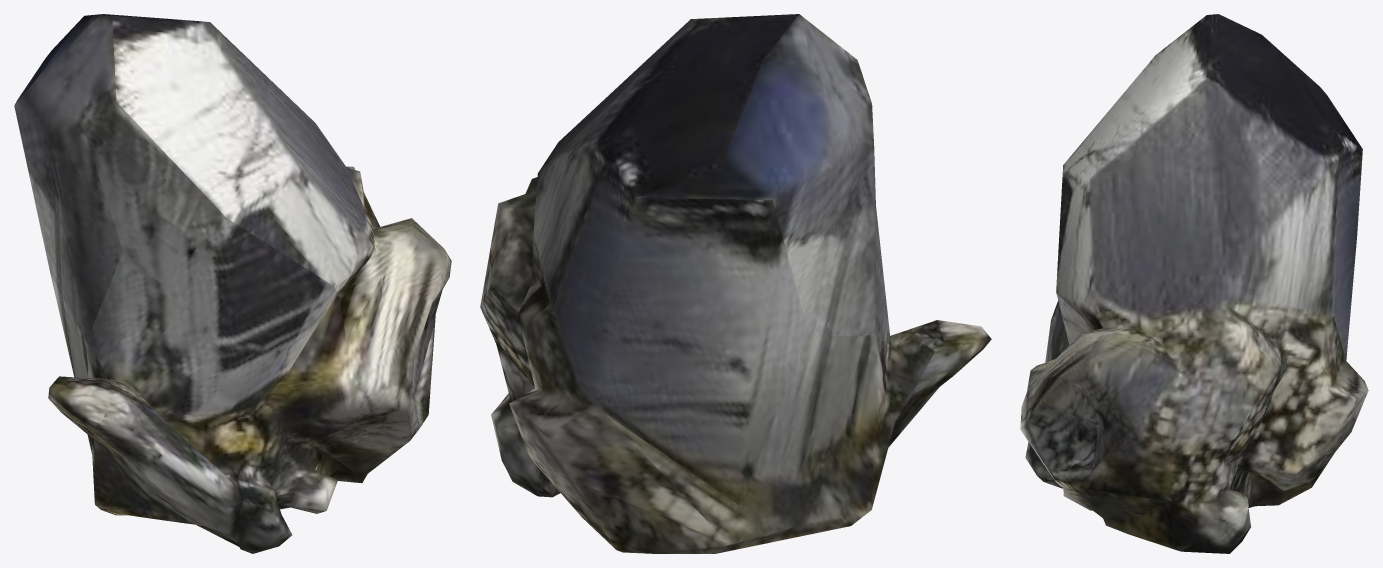
Rendered from crystal-dig_engine_02.glb.
3 views of the same model, side by side, from view 1: azimuth 30°, elevation 25°; view 2: azimuth 150°, elevation 25°; view 3: azimuth 270°, elevation 25° (orthographic). The views are drawn at different scales.
Visible parts, largest first — view 1: mesh_node.003; view 2: mesh_node.003; view 3: mesh_node.003.
Part boxes in pixels (x1,y1,x2,y2): mesh_node.003: [14, 14, 451, 553]; mesh_node.003: [480, 14, 991, 553]; mesh_node.003: [1020, 14, 1368, 553].
Bounding box in the file's own units: 0.3145 × 0.3711 × 0.2661.
Materials: 1 (1 with a texture image).
